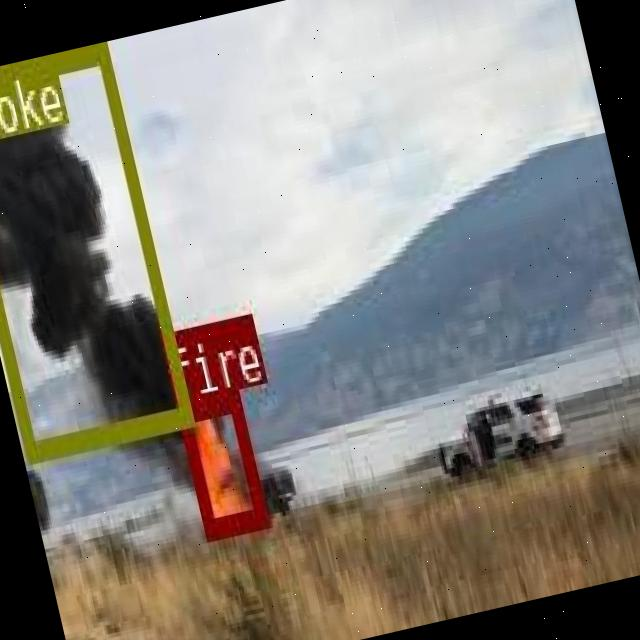fire: (176, 390, 266, 538)
smoke: (0, 42, 191, 461)
